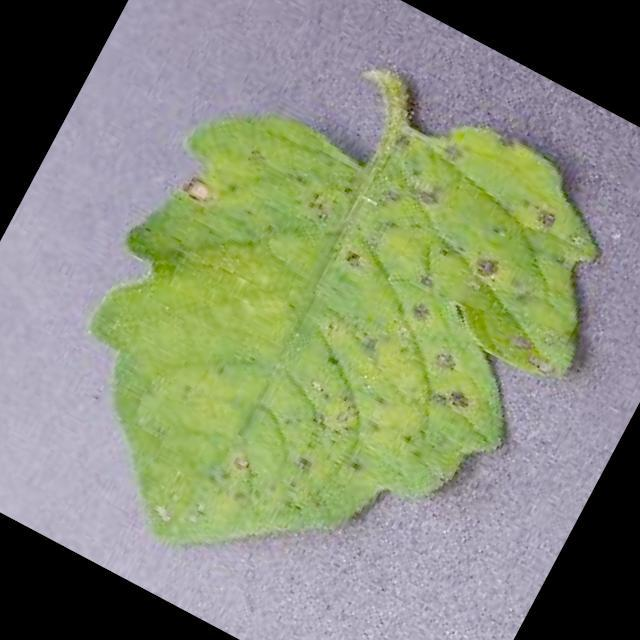Tomato Septoria spot leaf: (7, 1, 640, 640)
